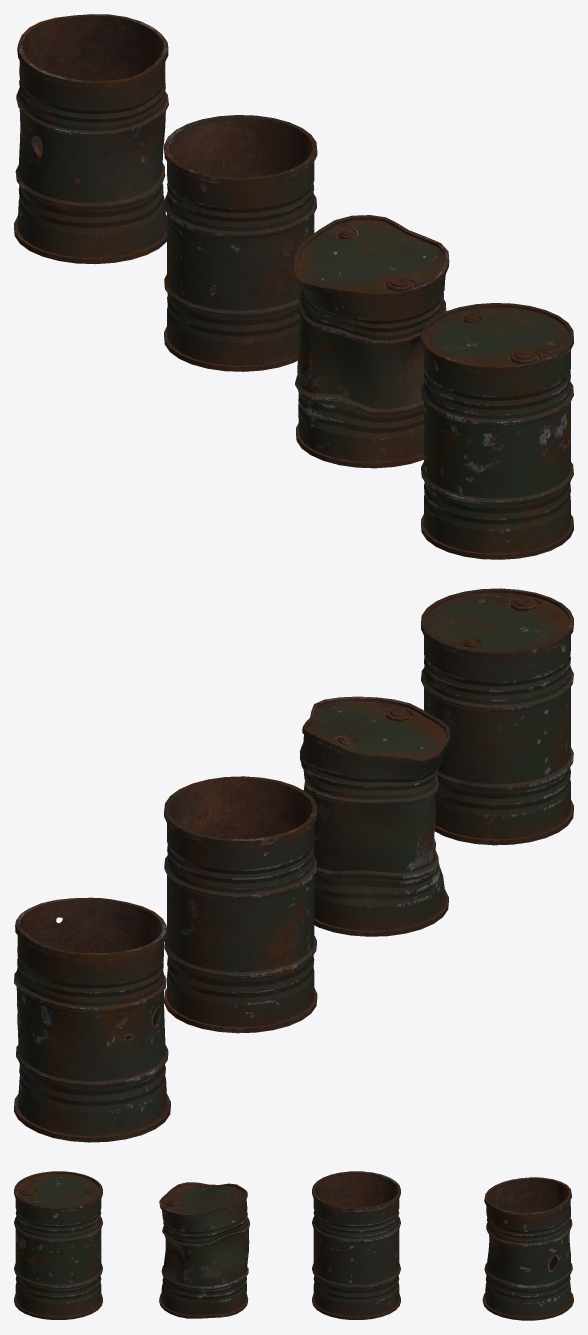
3 views of the same model, one above another, from view 1: azimuth 30°, elevation 25°; view 2: azimuth 150°, elevation 25°; view 3: azimuth 270°, elevation 25° (orthographic). The views are drawn at different scales.
Visible parts, largest first — view 1: MS_Barrel_Intact, MS_Barrel_Bullet_Holes, MS_Barrel_Open, MS_Barrel_Dented; view 2: MS_Barrel_Open, MS_Barrel_Bullet_Holes, MS_Barrel_Intact, MS_Barrel_Dented; view 3: MS_Barrel_Intact, MS_Barrel_Open, MS_Barrel_Bullet_Holes, MS_Barrel_Dented.
Boxes of the visible parts, box(x1,y1,x2,y2) form: MS_Barrel_Intact: box(421, 303, 573, 559); MS_Barrel_Bullet_Holes: box(14, 14, 168, 264); MS_Barrel_Open: box(164, 115, 317, 371); MS_Barrel_Dented: box(293, 215, 449, 468); MS_Barrel_Open: box(164, 776, 317, 1033); MS_Barrel_Bullet_Holes: box(14, 897, 170, 1142); MS_Barrel_Intact: box(421, 588, 573, 845); MS_Barrel_Dented: box(300, 696, 450, 936); MS_Barrel_Intact: box(14, 1171, 102, 1319); MS_Barrel_Open: box(312, 1171, 400, 1319); MS_Barrel_Bullet_Holes: box(482, 1177, 573, 1320); MS_Barrel_Dented: box(159, 1182, 249, 1318).
Bounding box in the file's own units: 0.8184 × 1.11 × 5.01.
Materials: 4 (4 with a texture image).
